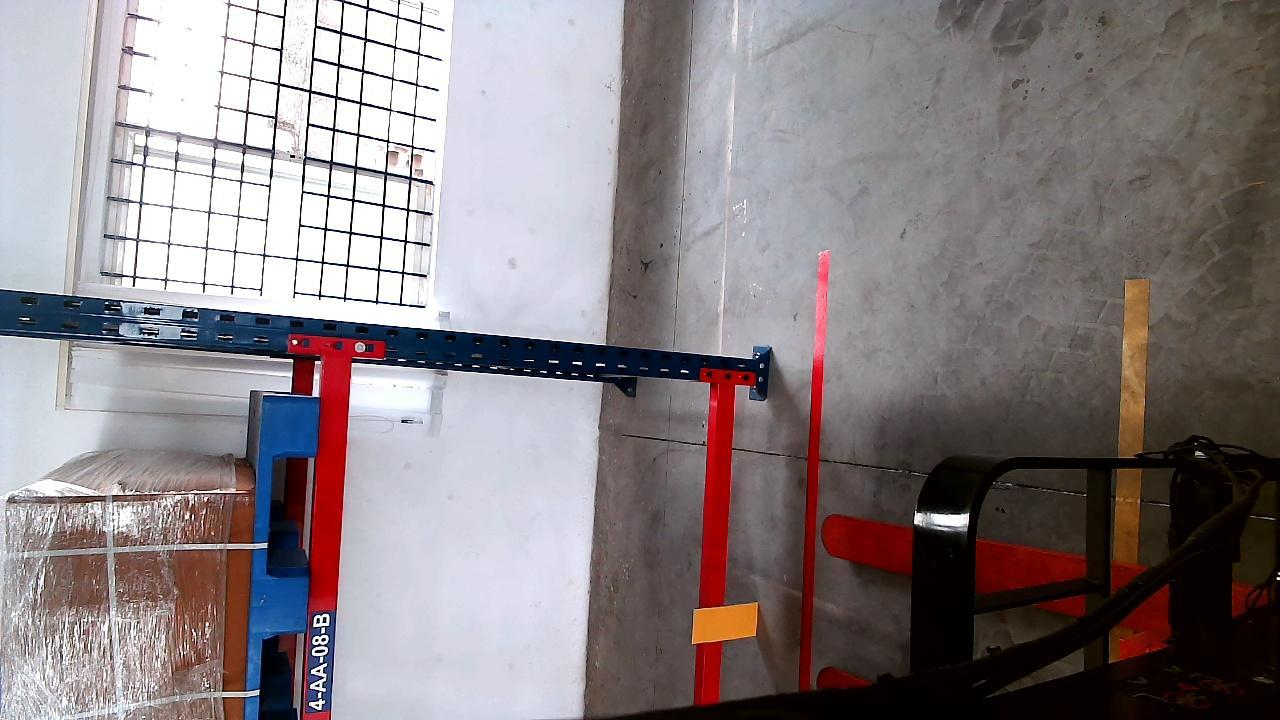red_line: (799, 248, 830, 689)
yellow_line: (1116, 279, 1149, 563)
